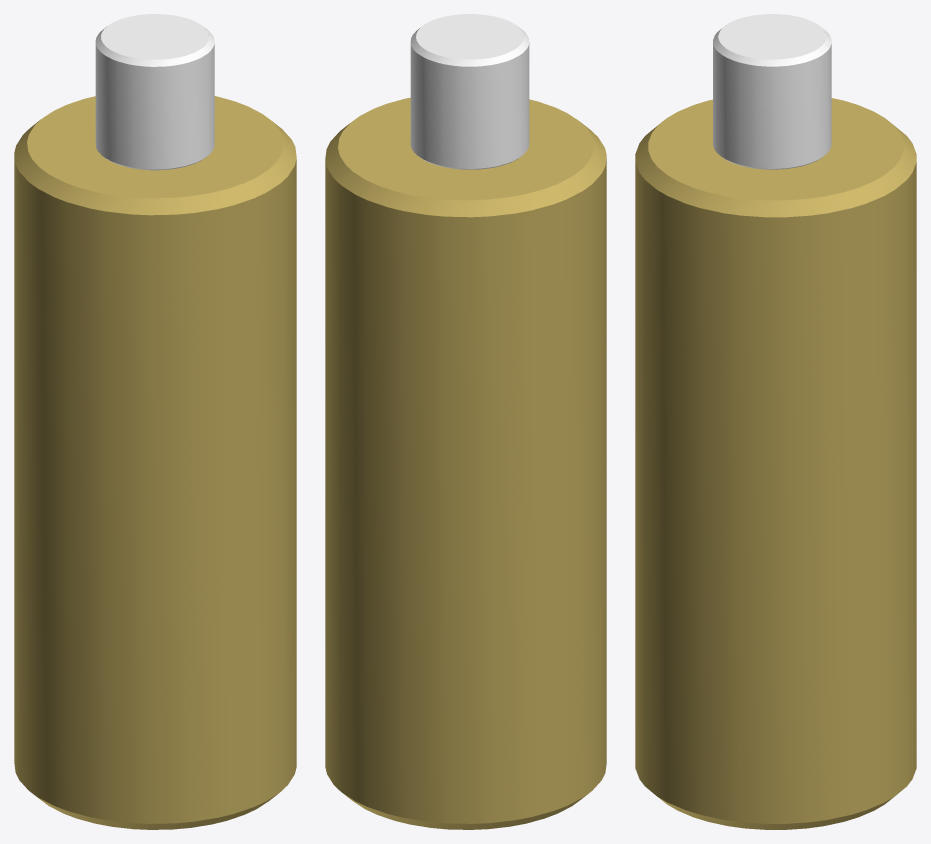
File: T_Bottle_yell.fbx
3 views of the same model, side by side, from view 1: azimuth 30°, elevation 25°; view 2: azimuth 150°, elevation 25°; view 3: azimuth 270°, elevation 25° (orthographic).
Parts seen in each view (by area): view 1: pCylinder2, pCylinder1; view 2: pCylinder2, pCylinder1; view 3: pCylinder2, pCylinder1.
Part boxes in pixels (bbox=[...]): pCylinder2: bbox=[14, 96, 296, 829]; pCylinder1: bbox=[95, 14, 214, 170]; pCylinder2: bbox=[325, 97, 606, 829]; pCylinder1: bbox=[410, 14, 529, 169]; pCylinder2: bbox=[635, 98, 916, 829]; pCylinder1: bbox=[713, 14, 831, 169].
Size of the model in its own units: 2.35 by 6.8 by 2.35.
2 materials, 2 textured.
